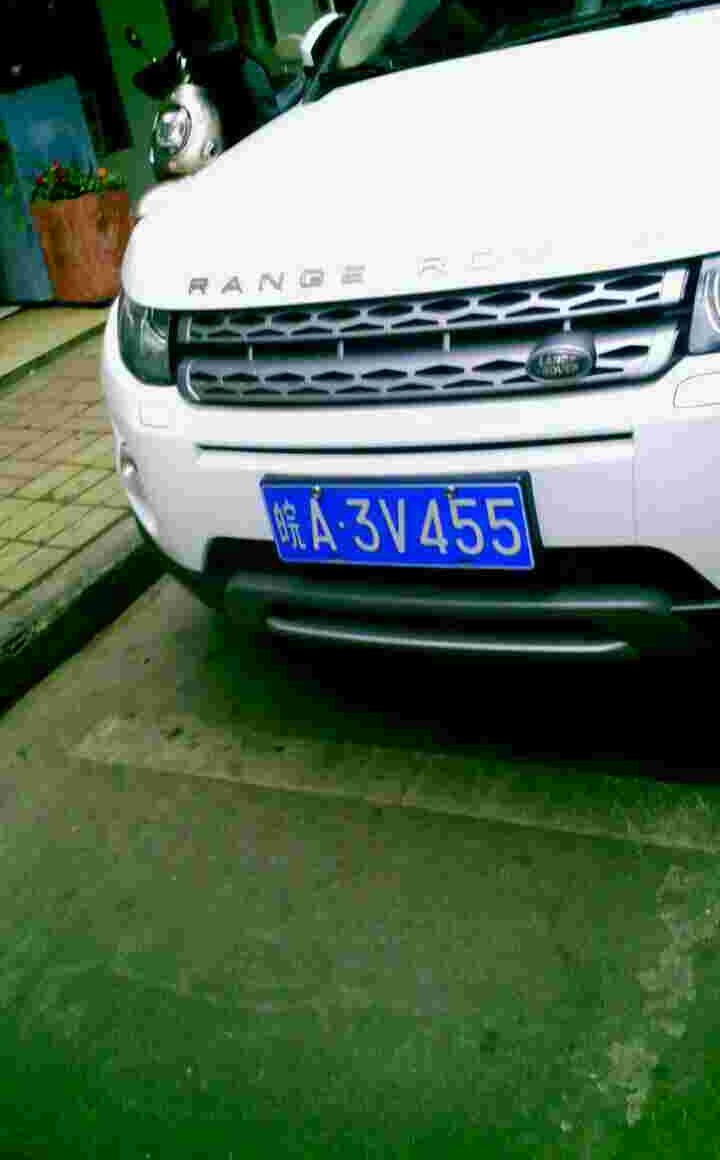car: (260, 482, 541, 563)
